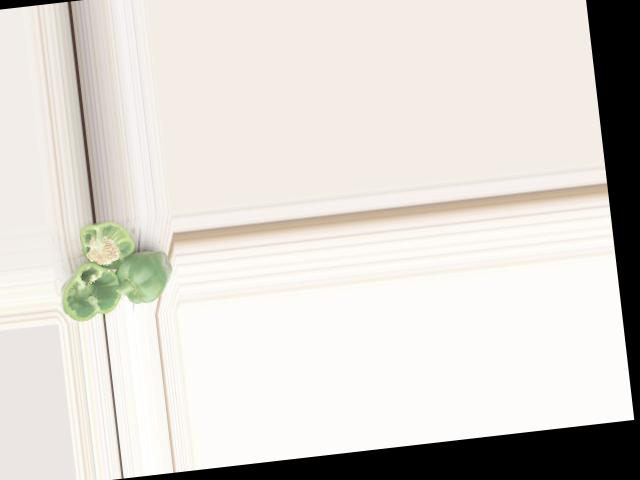bell_pepper: (67, 218, 141, 272)
